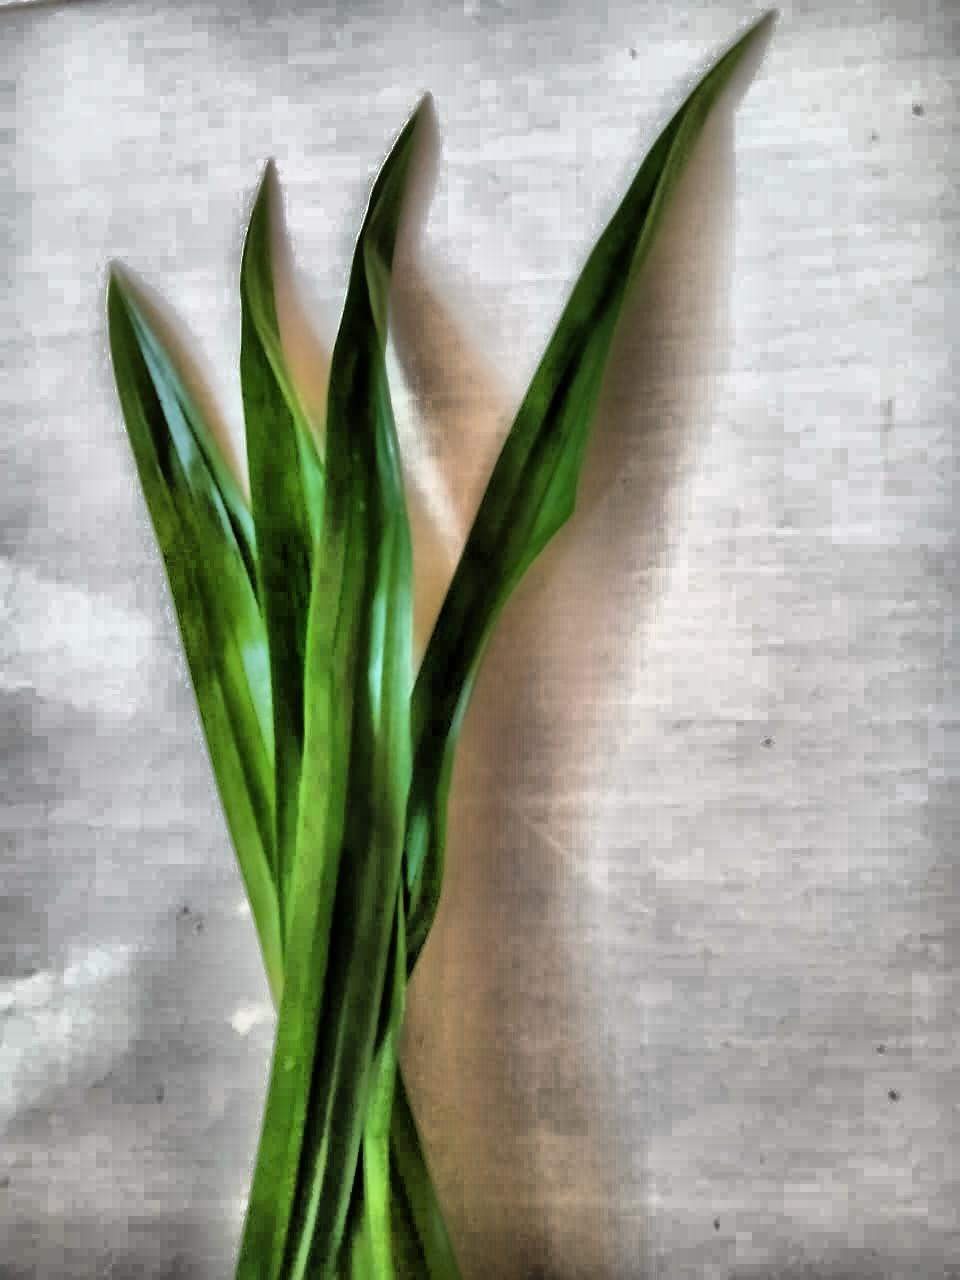daun pandan: (108, 18, 765, 1279)
